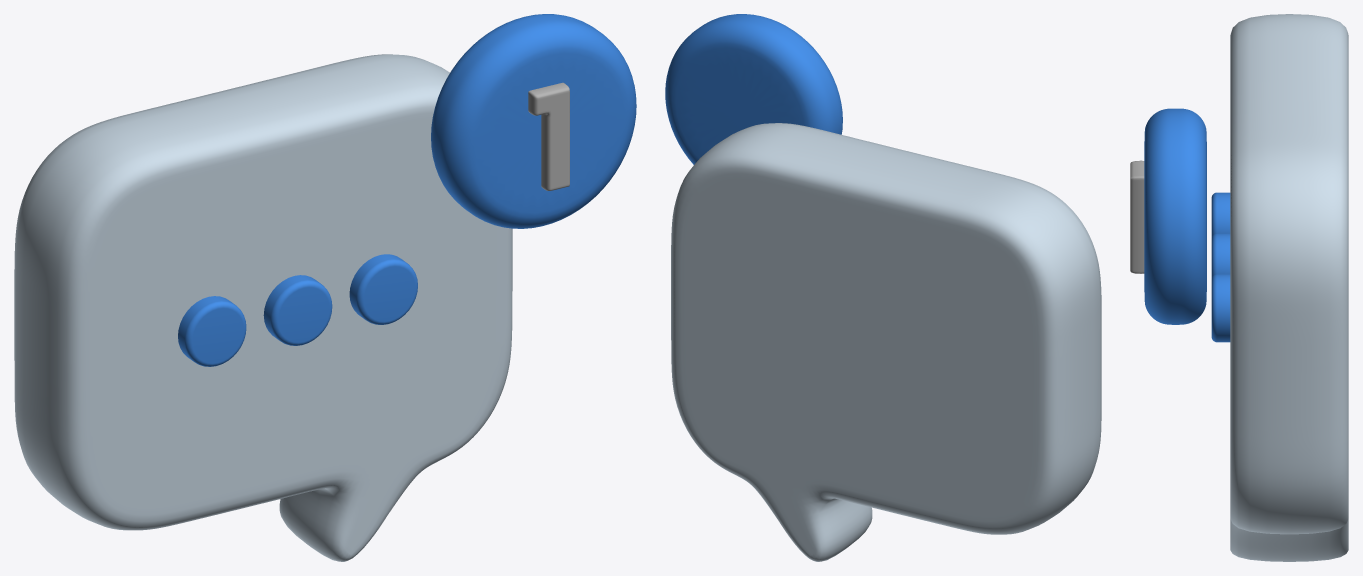
File: new-message-animated-3d-icon-795949823045.glb
The picture shows the model from 3 angles, left to right: view 1: azimuth 30°, elevation 25°; view 2: azimuth 150°, elevation 25°; view 3: azimuth 270°, elevation 25°; orthographic projection. The views are drawn at different scales.
Visible parts, largest first — view 1: Bubble, Base.002, Dots, Value.001; view 2: Bubble, Base.002; view 3: Bubble, Base.002, Dots, Value.001.
Boxes of the visible parts, x1,y1,x2,y2 form: Bubble: [14, 54, 512, 561]; Base.002: [431, 14, 636, 228]; Dots: [178, 254, 417, 366]; Value.001: [528, 82, 569, 190]; Bubble: [671, 123, 1101, 561]; Base.002: [665, 14, 842, 164]; Bubble: [1230, 14, 1348, 561]; Base.002: [1144, 108, 1206, 324]; Dots: [1211, 192, 1230, 342]; Value.001: [1130, 160, 1144, 273].
Bounding box in the file's own units: 2.33 × 2.2 × 0.8454.
